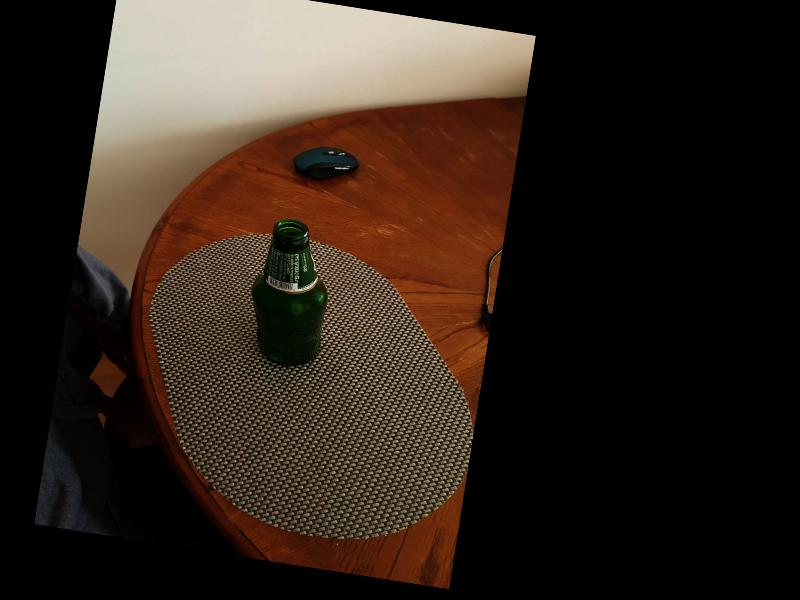Beer: (238, 214, 342, 370)
